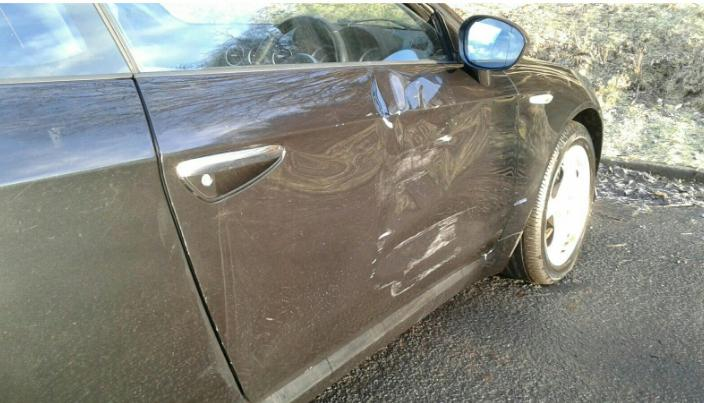Back-door: (0, 72, 245, 403)
Back-window: (0, 3, 132, 78)
Fender: (498, 56, 603, 241)
Front-door: (91, 3, 518, 402)
Front-wheel: (501, 120, 596, 284)
Front-window: (103, 3, 452, 71)
Mirror: (458, 14, 530, 87)
Rocker-panel: (259, 231, 523, 403)
